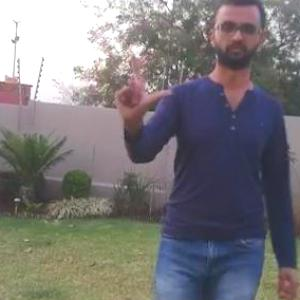land_hand: (98, 54, 180, 119)
